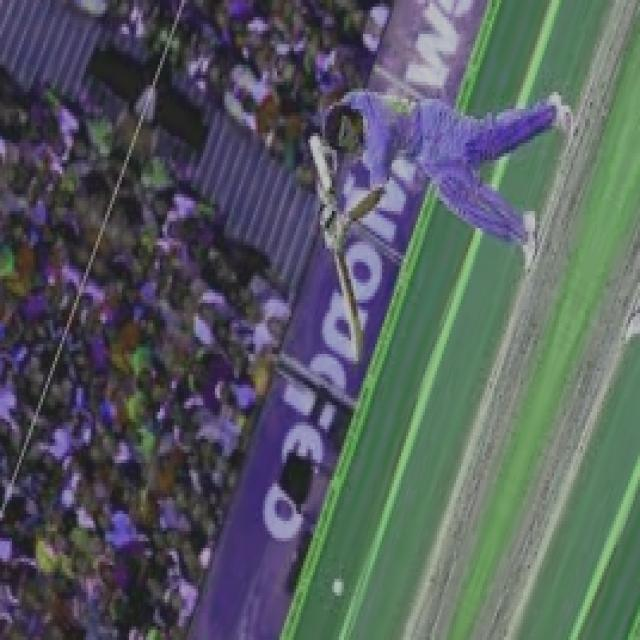bat: (315, 253, 373, 367)
toe: (340, 346, 381, 369)
